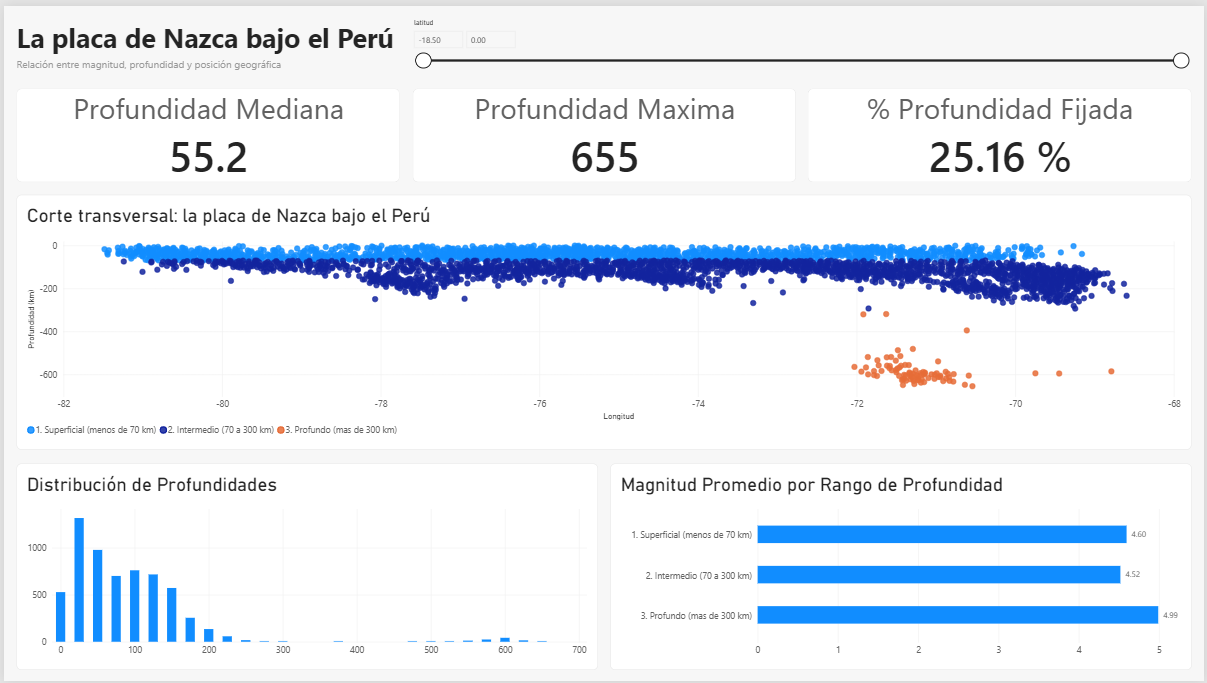

The dashboard page shown, as its layout file describes it:
{"tool":"powerbi","page":{"name":"Profundidad","canvas":[1920,1080],"ordinal":1},"visuals":[{"type":"textbox","box":[20,20,608,62],"z":0},{"type":"textbox","box":[20,82,430,30],"z":1000},{"type":"scatterChart","title":"Corte transversal: la placa de Nazca bajo el Perú","fields":{"Category":["sismo.id_usgs"],"Series":["sismo.rango_profundidad"],"X":["Avg(sismo.longitud)"],"Y":["sismo.profundidad_negativa"]},"box":[20,302,1880,408],"z":2000},{"type":"slicer","fields":{"Values":["sismo.latitud"]},"box":[648,20,1252,92],"z":3000},{"type":"clusteredColumnChart","title":"Distribución de Profundidades","fields":{"Category":["sismo.profundidad_km (ubicaciones)"],"Y":["sismo.Eventos"]},"box":[20,732,930,330],"z":4000},{"type":"clusteredBarChart","title":"Magnitud Promedio por Rango de Profundidad","fields":{"Category":["sismo.rango_profundidad"],"Y":["sismo.Magnitud Promedio"]},"box":[970,732,930,330],"z":5000},{"type":"cardVisual","fields":{"Data":["sismo.Profundidad Mediana"]},"box":[20,132,613,150],"z":6000},{"type":"cardVisual","fields":{"Data":["sismo.Profundidad Maxima"]},"box":[653,132,613,150],"z":7000},{"type":"cardVisual","fields":{"Data":["sismo.% Profundidad Fijada"]},"box":[1286,132,614,150],"z":8000}]}

Visuals, with their boxes in screenshot pixels (x1, y1, x2, y2), scaled from the page's 1920x1080 canvas onto the 1207x683 screenshot:
textbox: bbox=[13, 13, 395, 52]
textbox: bbox=[13, 52, 283, 71]
"Corte transversal: la placa de Nazca bajo el Perú" scatterChart: bbox=[13, 191, 1194, 449]
slicer - sismo.latitud: bbox=[407, 13, 1194, 71]
"Distribución de Profundidades" clusteredColumnChart: bbox=[13, 463, 597, 672]
"Magnitud Promedio por Rango de Profundidad" clusteredBarChart: bbox=[610, 463, 1194, 672]
cardVisual - sismo.Profundidad Mediana: bbox=[13, 83, 398, 178]
cardVisual - sismo.Profundidad Maxima: bbox=[411, 83, 796, 178]
cardVisual - sismo.% Profundidad Fijada: bbox=[808, 83, 1194, 178]
